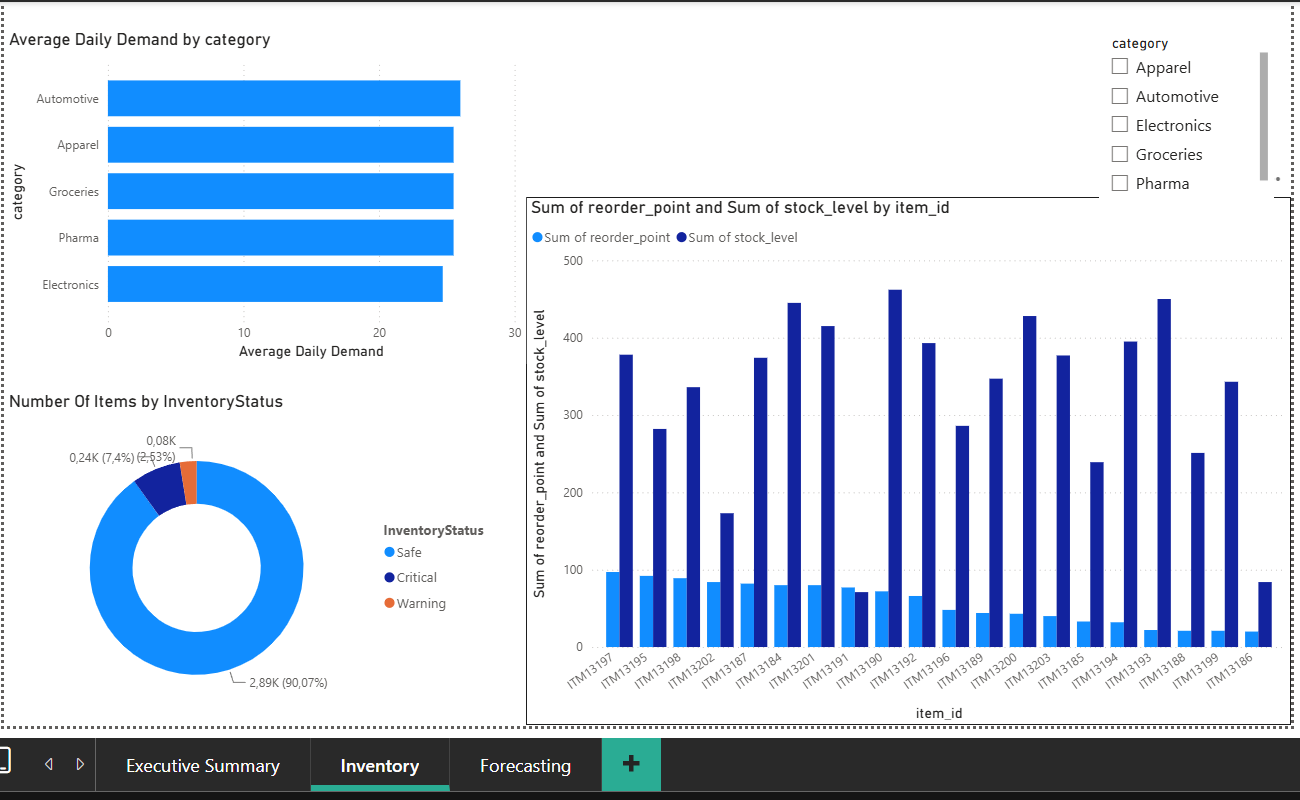

The page's visual inventory and layout, read from the dashboard file:
{"tool":"powerbi","page":{"name":"Inventory","canvas":[1280,720],"ordinal":1},"visuals":[{"type":"donutChart","fields":{"Category":["V_Warehouse_InventoryRisk.InventoryStatus"],"Y":["CountNonNull(V_Warehouse_InventoryRisk.item_id)"]},"box":[0,386.7,496.4,332.8],"z":0},{"type":"clusteredColumnChart","fields":{"Y":["Sum(Warehouse.reorder_point)","Sum(Warehouse.stock_level)"],"Category":["Warehouse.item_id"]},"box":[519.4,194.3,759.9,525.2],"z":1000},{"type":"barChart","fields":{"Y":["Avg(V_Warehouse_Demand.avgDailyDemand)"],"Category":["V_Warehouse_Demand.category"]},"box":[0,26.9,519.4,332.8],"z":2000},{"type":"slicer","fields":{"Values":["V_Warehouse_Demand.category"]},"box":[1088.9,26.9,173.1,167.4],"z":3000}]}

Visuals, with their boxes on the page's 1280x720 design canvas (x1, y1, x2, y2). These are canvas units, not pixel positions in the 1300x800 screenshot, which may show the page scaled, cropped or inside an application window:
donutChart - V_Warehouse_InventoryRisk.InventoryStatus x CountNonNull(V_Warehouse_InventoryRisk.item_id): region(0, 387, 496, 720)
clusteredColumnChart - Sum(Warehouse.reorder_point) x Sum(Warehouse.stock_level): region(519, 194, 1279, 720)
barChart - Avg(V_Warehouse_Demand.avgDailyDemand) x V_Warehouse_Demand.category: region(0, 27, 519, 360)
slicer - V_Warehouse_Demand.category: region(1089, 27, 1262, 194)
